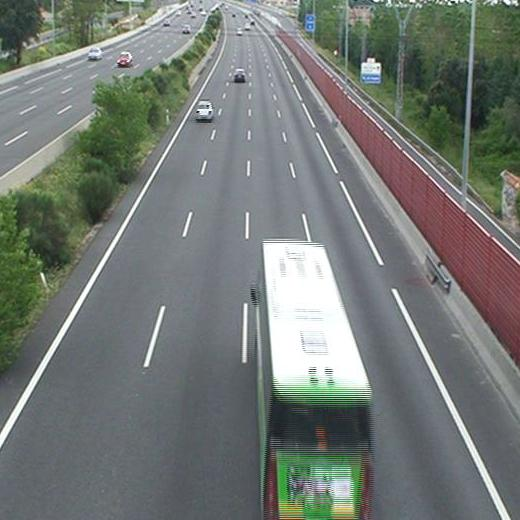bus: (255, 240, 373, 520)
car: (195, 101, 213, 119), (234, 69, 245, 82)
